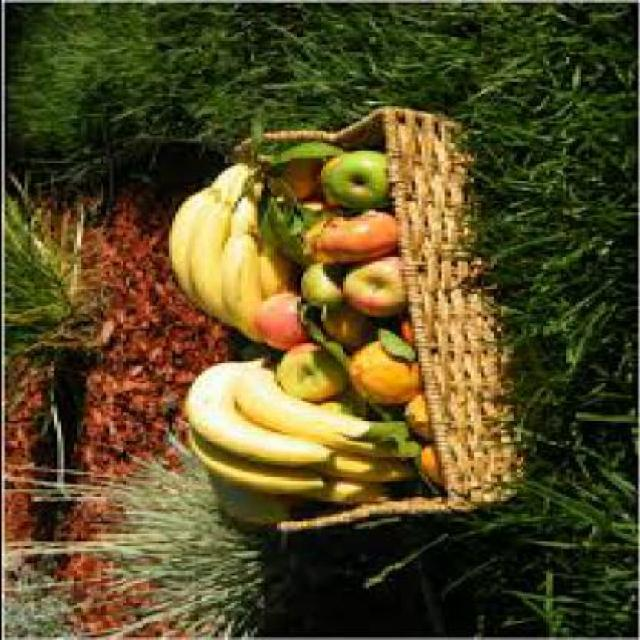BIODEGRADABLE: (226, 365, 420, 458), (178, 358, 334, 464), (181, 425, 325, 492), (187, 198, 239, 320), (161, 183, 216, 297), (213, 230, 265, 344), (338, 329, 420, 400), (312, 146, 391, 202), (200, 469, 289, 518), (269, 339, 342, 398), (312, 205, 394, 257), (339, 252, 403, 314), (246, 190, 302, 258), (250, 291, 312, 346), (312, 449, 413, 480), (285, 472, 390, 499), (315, 300, 374, 346), (252, 232, 292, 294), (296, 260, 342, 306), (219, 188, 259, 237), (204, 163, 253, 203), (393, 393, 430, 442), (260, 141, 328, 165), (403, 442, 440, 484), (368, 322, 410, 358), (246, 113, 272, 153), (395, 316, 407, 344)
